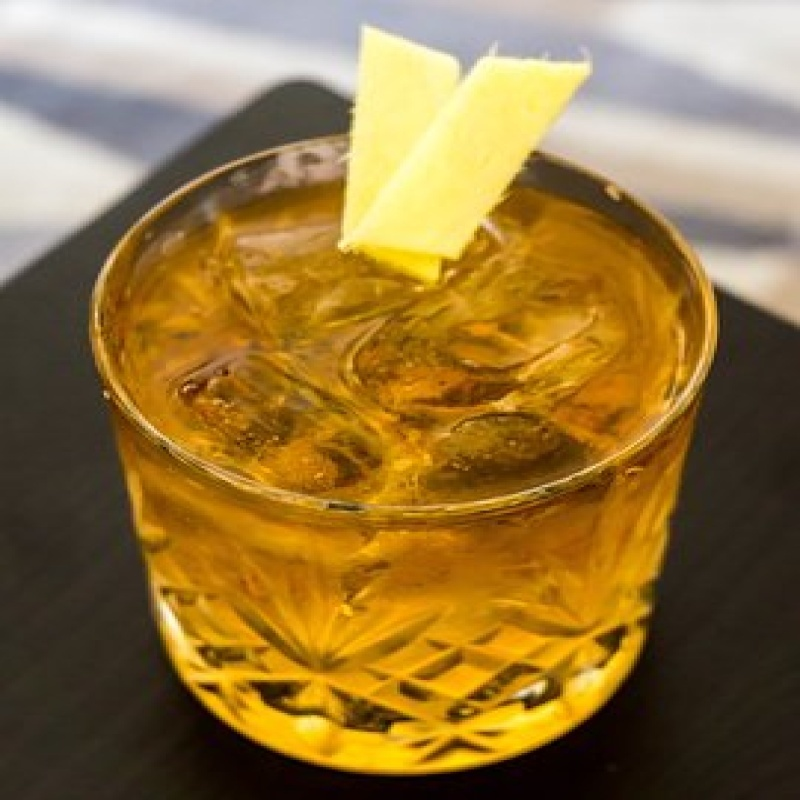whiskey: (134, 135, 719, 764)
